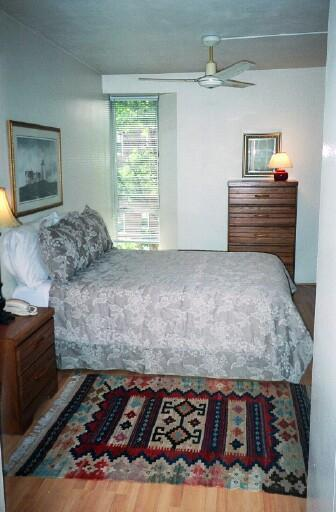Armario: (231, 184, 298, 251)
Cama: (24, 218, 298, 378)
Ventana: (108, 96, 159, 251)
